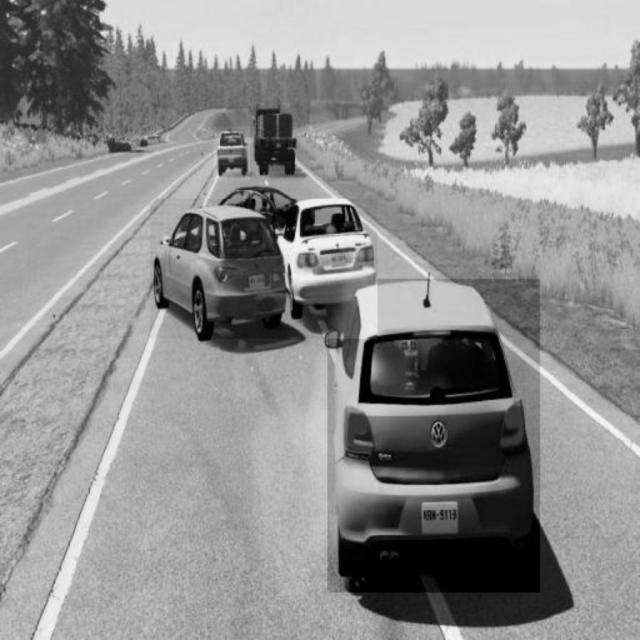accident: (151, 200, 378, 340)
vehicle: (328, 279, 540, 593), (250, 105, 302, 181), (214, 126, 250, 180)
